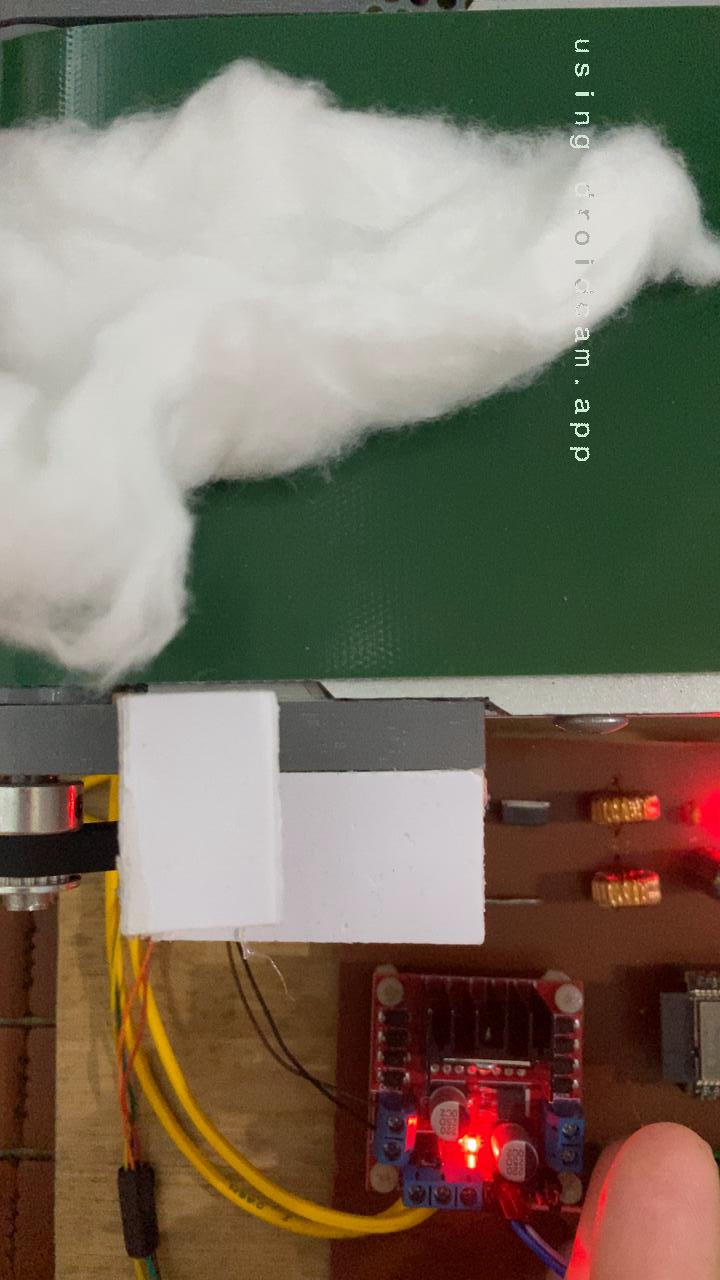cotton: (0, 52, 720, 677)
